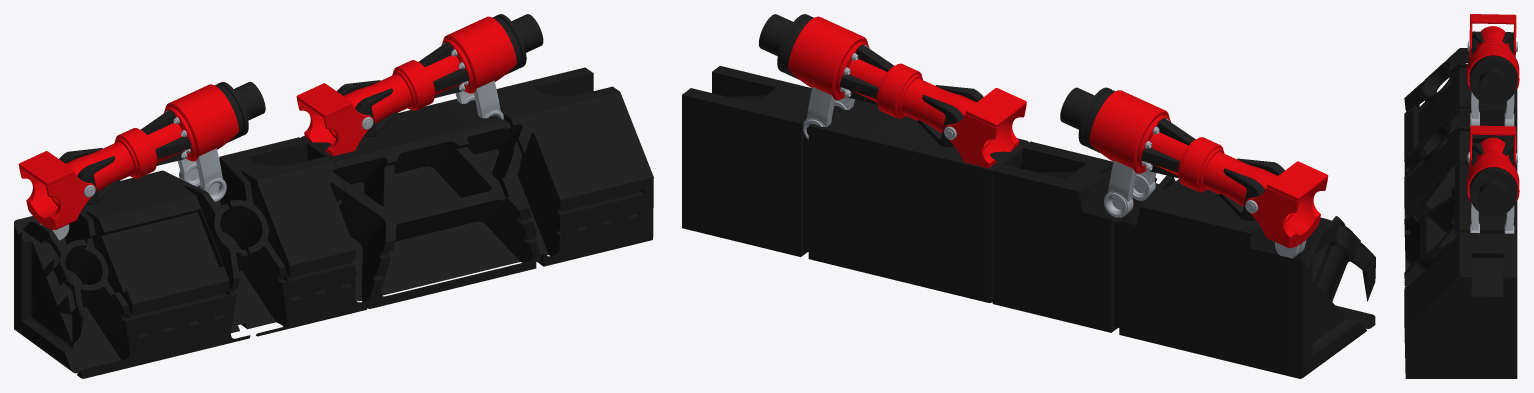
Rendered from machine_l.fbx.
The picture shows the model from 3 angles, left to right: view 1: azimuth 30°, elevation 25°; view 2: azimuth 150°, elevation 25°; view 3: azimuth 270°, elevation 25°; orthographic projection. The views are drawn at different scales.
Parts seen in each view (by area): view 1: machine_left; view 2: machine_left; view 3: machine_left.
Part boxes in pixels (x1,y1,x2,y2): machine_left: (14,14,653,378); machine_left: (682,14,1375,378); machine_left: (1404,14,1519,378).
Bounding box in the file's own units: 1045 × 362 × 221.
